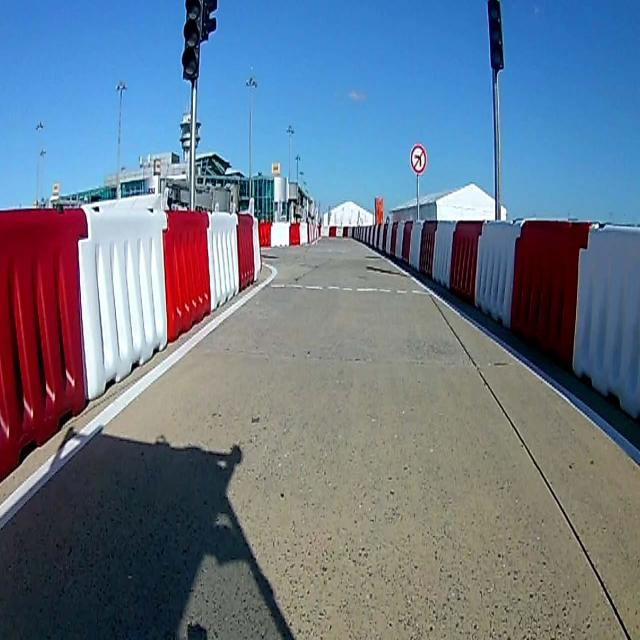soladonulmez: (410, 143, 427, 174)
